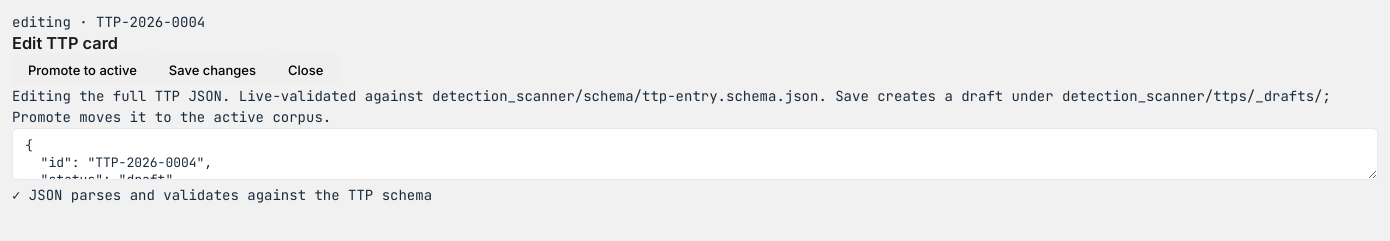
<TtpEditorView /> › edit mode → PUT /api/ttps/:id with the loaded body
Expected: the text "✓ JSON parses and validates against the TTP schema" is shown, top-left (12, 186), bottom-right (432, 204)
// Save without modifying — the loaded body should already validate.
Click the button with test id "ttp-editor-save": (212, 70) top-left (153, 54), bottom-right (272, 86)
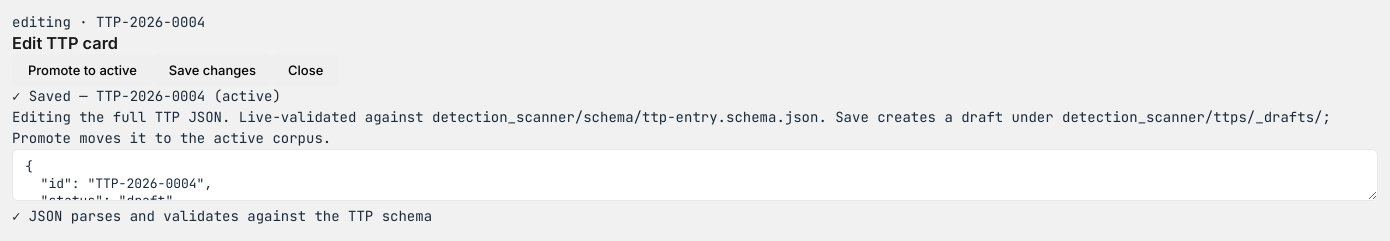
Expected: the message "✓ Saved — TTP-2026-0004 (active)" is shown, top-left (12, 87), bottom-right (281, 105)
